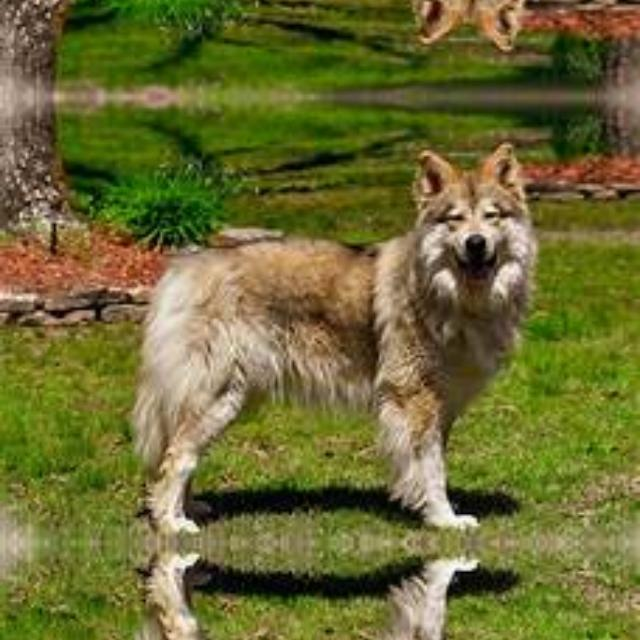dog: (88, 145, 598, 542), (88, 542, 598, 640), (88, 0, 598, 46)
